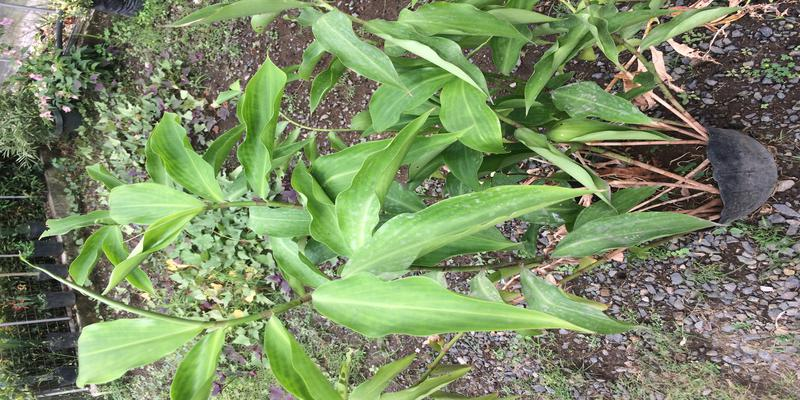Insulin: (249, 56, 728, 339)
